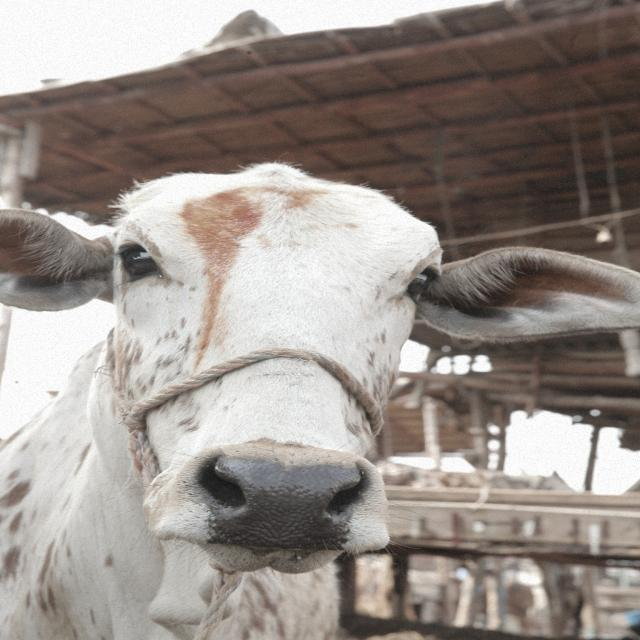muzzles: (185, 441, 388, 558)
